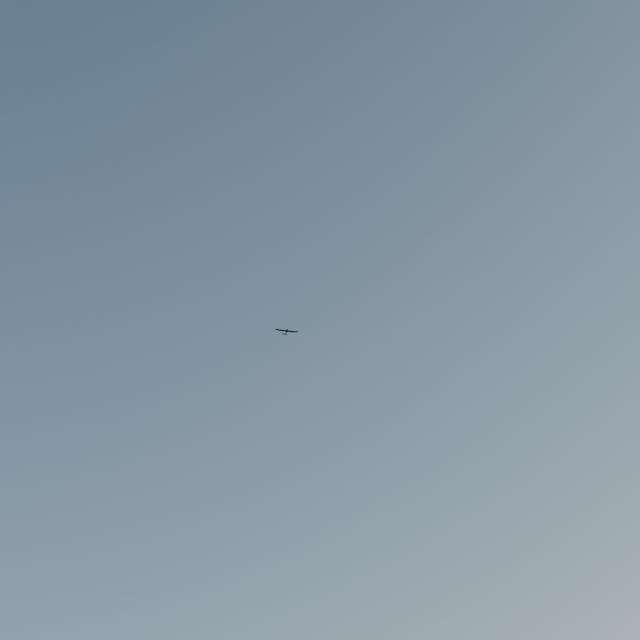Airaplan: (275, 328, 298, 335)
